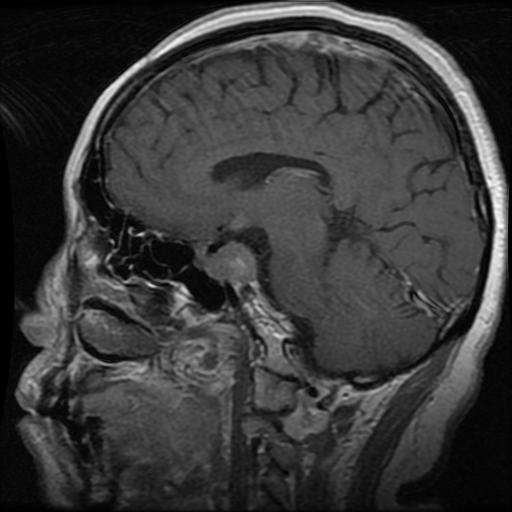Pituirity_tumour: (194, 240, 255, 280)
